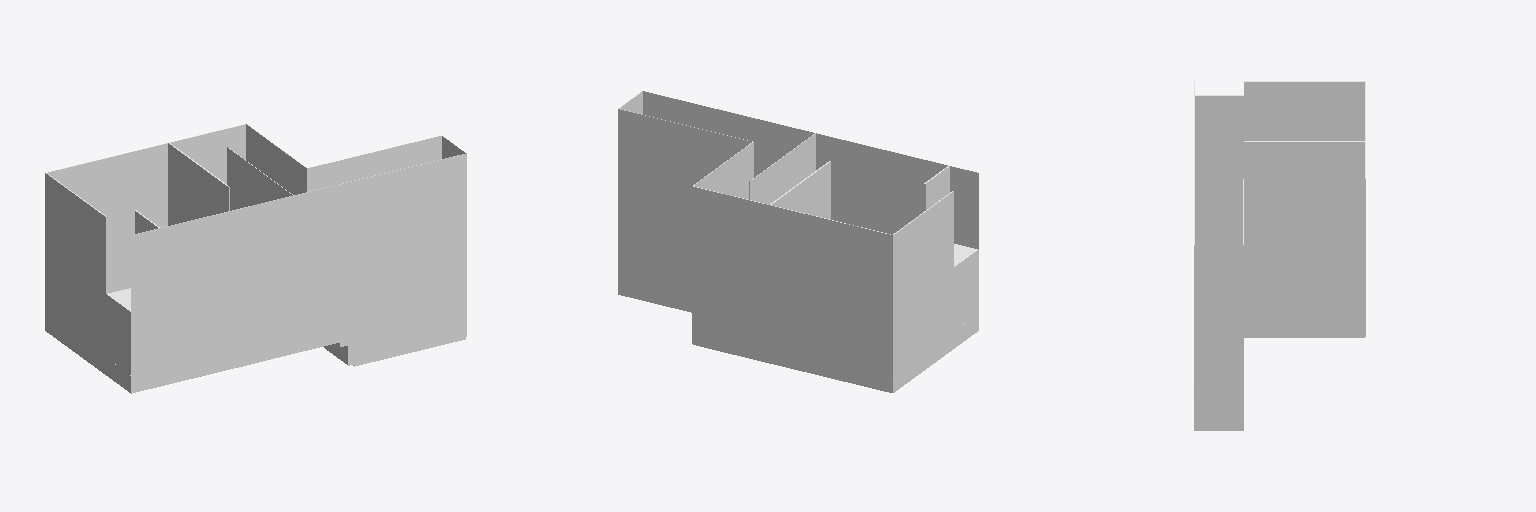
The model's file is movement.obj.
The picture shows the model from 3 angles: view 1: azimuth 30°, elevation 25°; view 2: azimuth 150°, elevation 25°; view 3: azimuth 270°, elevation 25°; orthographic projection.
Parts seen in each view (by area): view 1: TutorialLevel; view 2: TutorialLevel; view 3: TutorialLevel.
Part boxes in pixels (x1,y1,x2,y2): TutorialLevel: (45, 124, 466, 393); TutorialLevel: (618, 91, 978, 392); TutorialLevel: (1194, 81, 1365, 430).
Bounding box in the file's own units: 199 × 105 × 87.64.